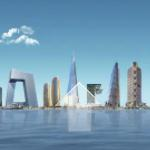缺口: (55, 82, 100, 130)
